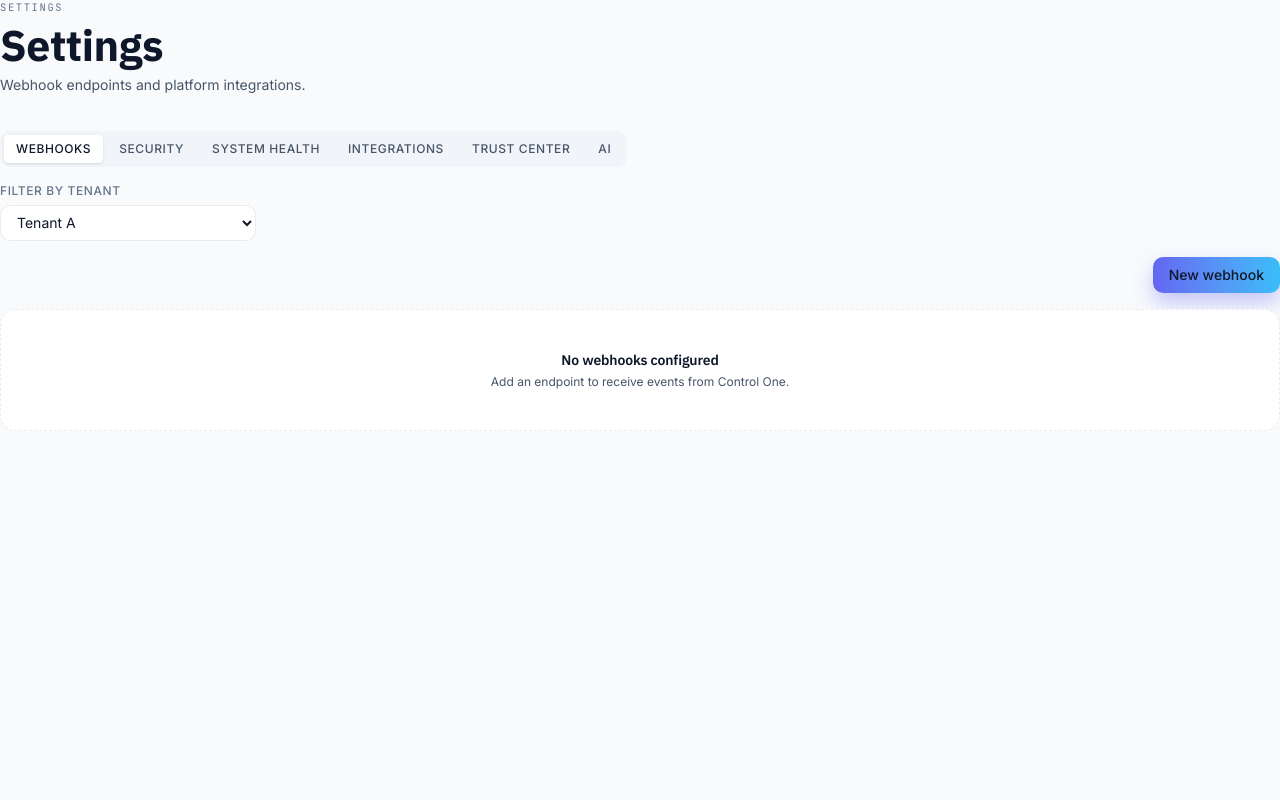
it: Settings MFA enrollment › names MFA revoke controls and keeps a visible error if revocation fails
The width and height of the screenshot is (1280, 800).
Click the tab "Security".
click(152, 149)  # box [107,135,196,163]
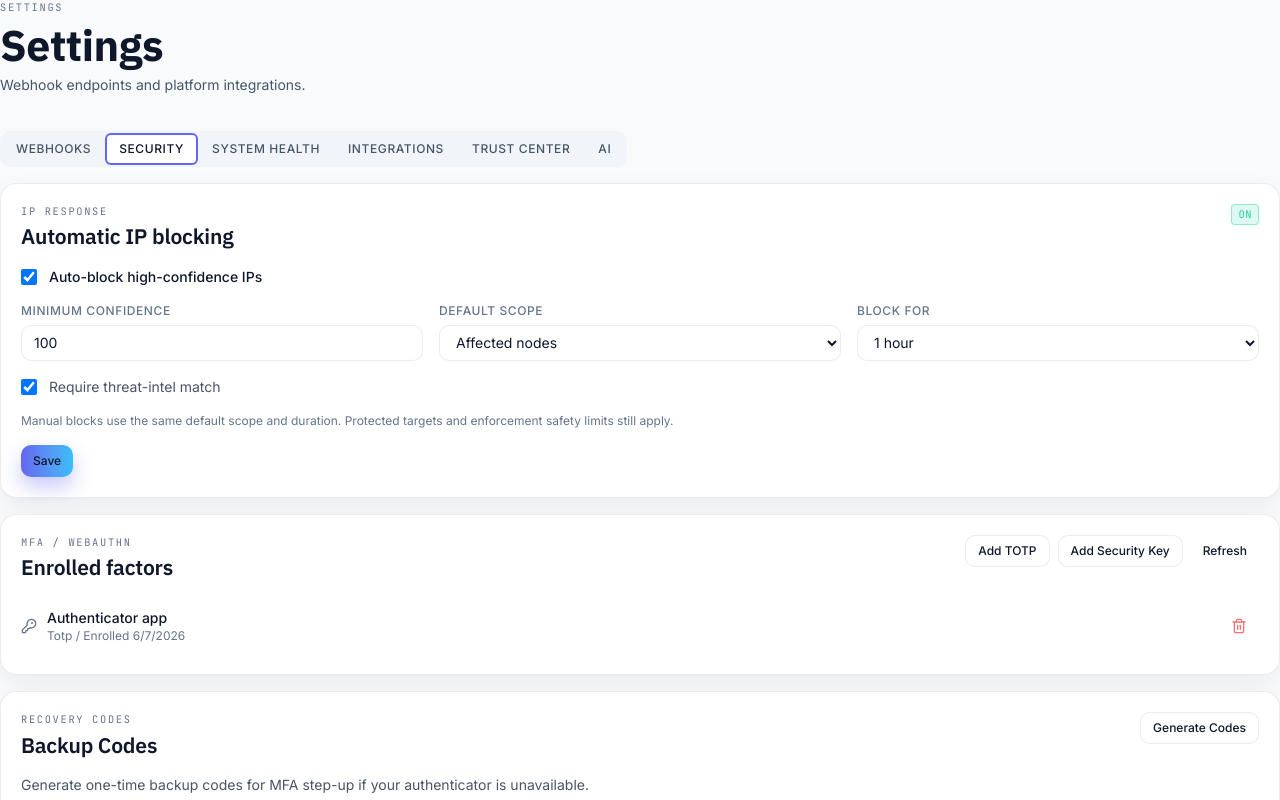
Expected: the text "Authenticator app" is shown, [47,608,185,628]
Click the button named "revoke authenticator app mfa factor".
click(1239, 626)  # box [1219,610,1259,642]
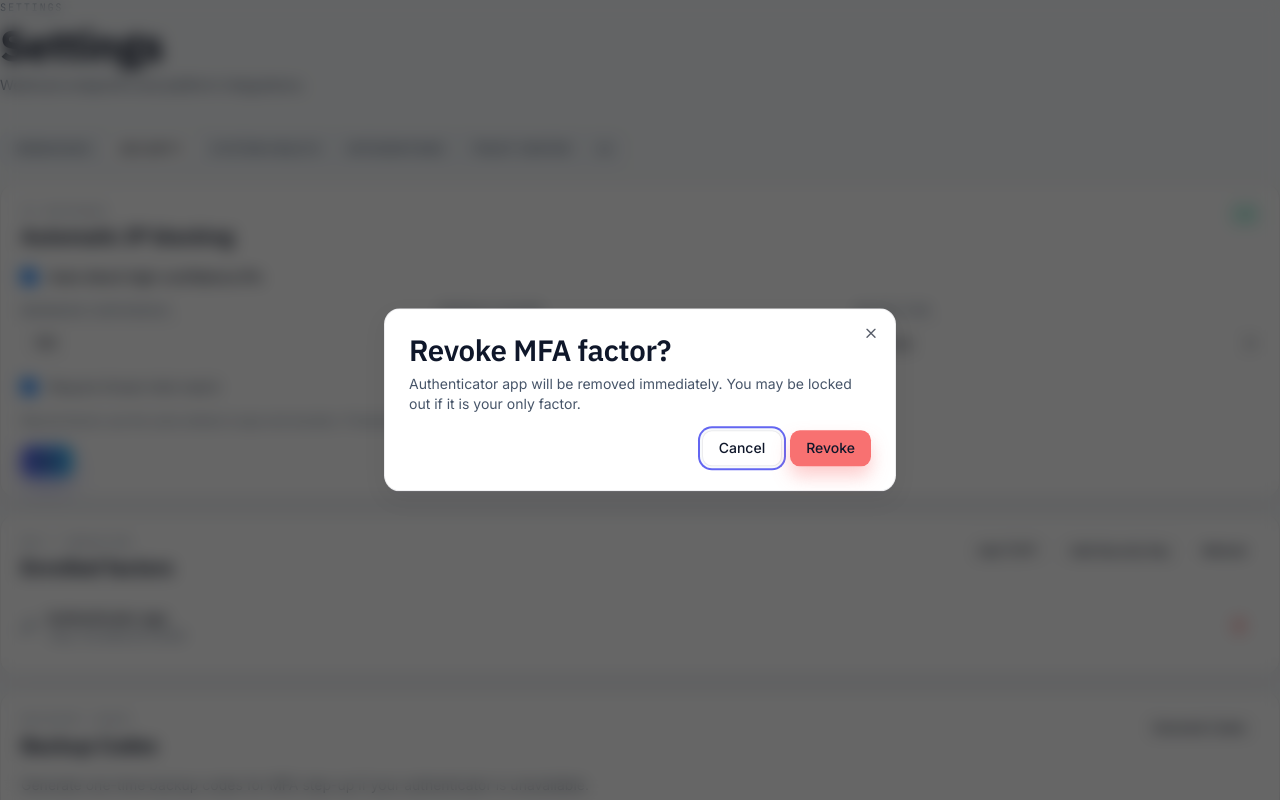
Expected: the text "Authenticator app will be removed immediately" is shown, [409,376,852,413]
Click the button "Revoke".
click(831, 449)  # box [790,431,871,467]
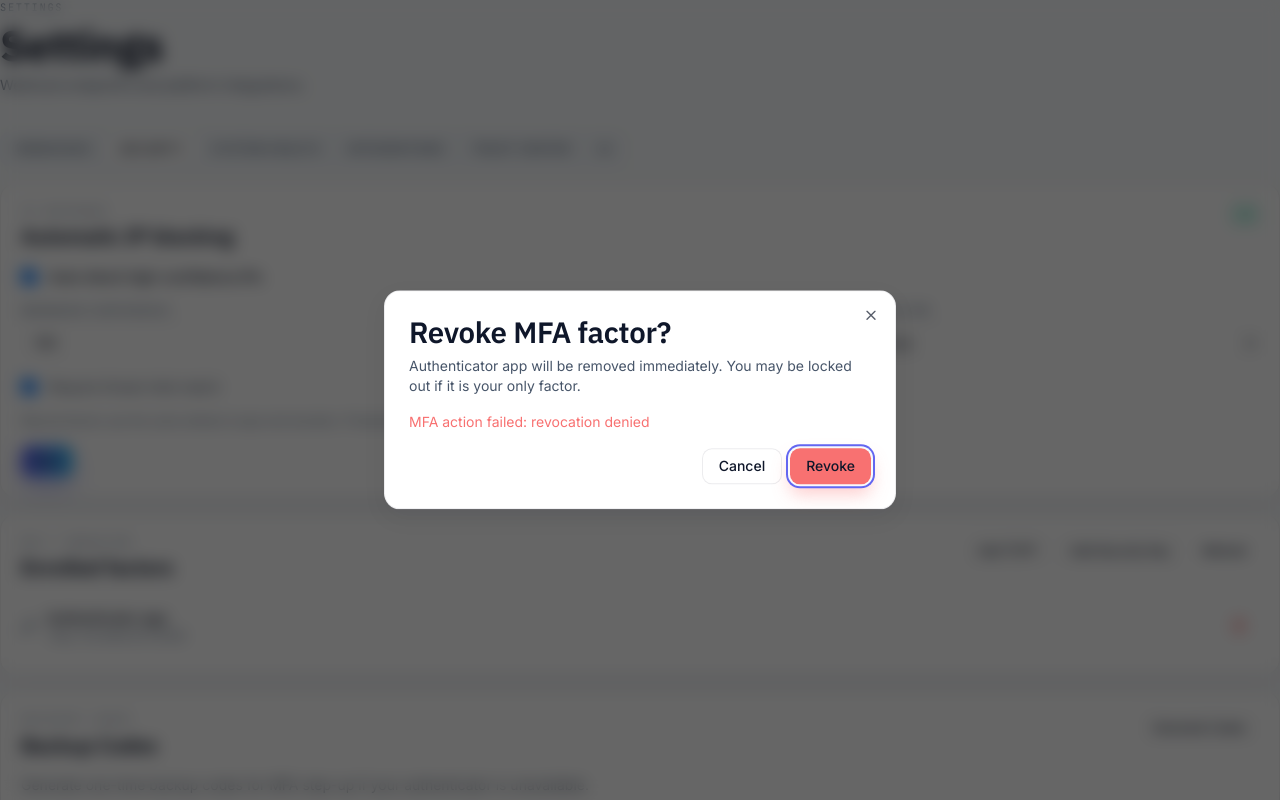
Expected: the message reads "MFA action failed: revocation denied", [409,414,650,431]
